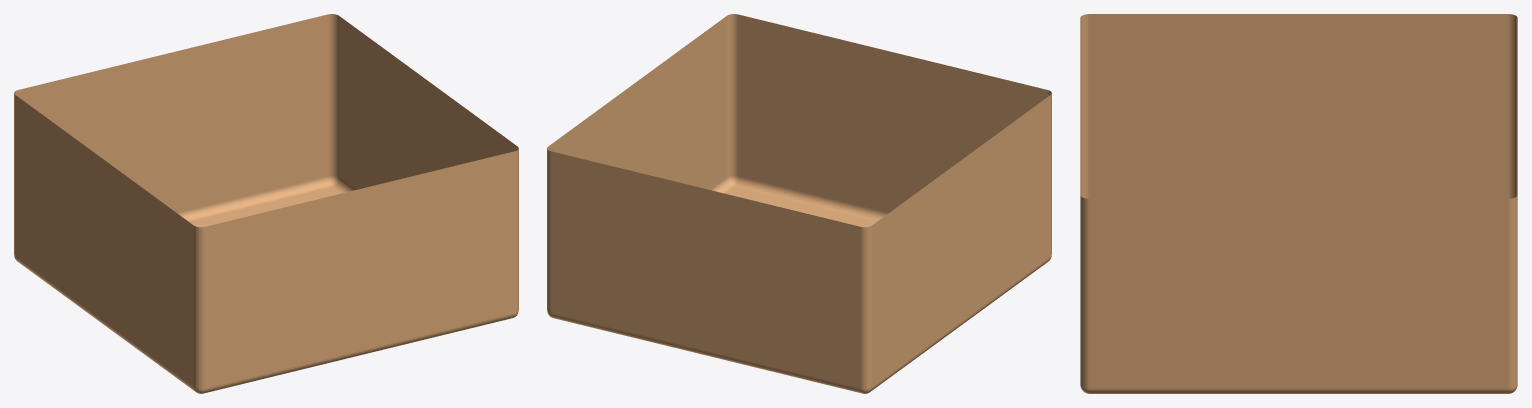
File: PortfolioMap.glb
The picture shows the model from 3 angles, left to right: view 1: azimuth 30°, elevation 25°; view 2: azimuth 150°, elevation 25°; view 3: azimuth 270°, elevation 25°; orthographic projection. The views are drawn at different scales.
Visible parts, largest first — view 1: Wall_Invis.001, Plane.001; view 2: Plane.001, Wall_Invis.001; view 3: Plane.001, Wall_Invis.001.
Part boxes in pixels (box(x1,y1,x2,y2)): Wall_Invis.001: box(15, 95, 514, 389); Plane.001: box(14, 14, 518, 393); Plane.001: box(547, 14, 1051, 393); Wall_Invis.001: box(738, 14, 1051, 386); Plane.001: box(1080, 14, 1517, 393); Wall_Invis.001: box(1080, 14, 1507, 198).
Bounding box in the file's own units: 160 × 80 × 160.
